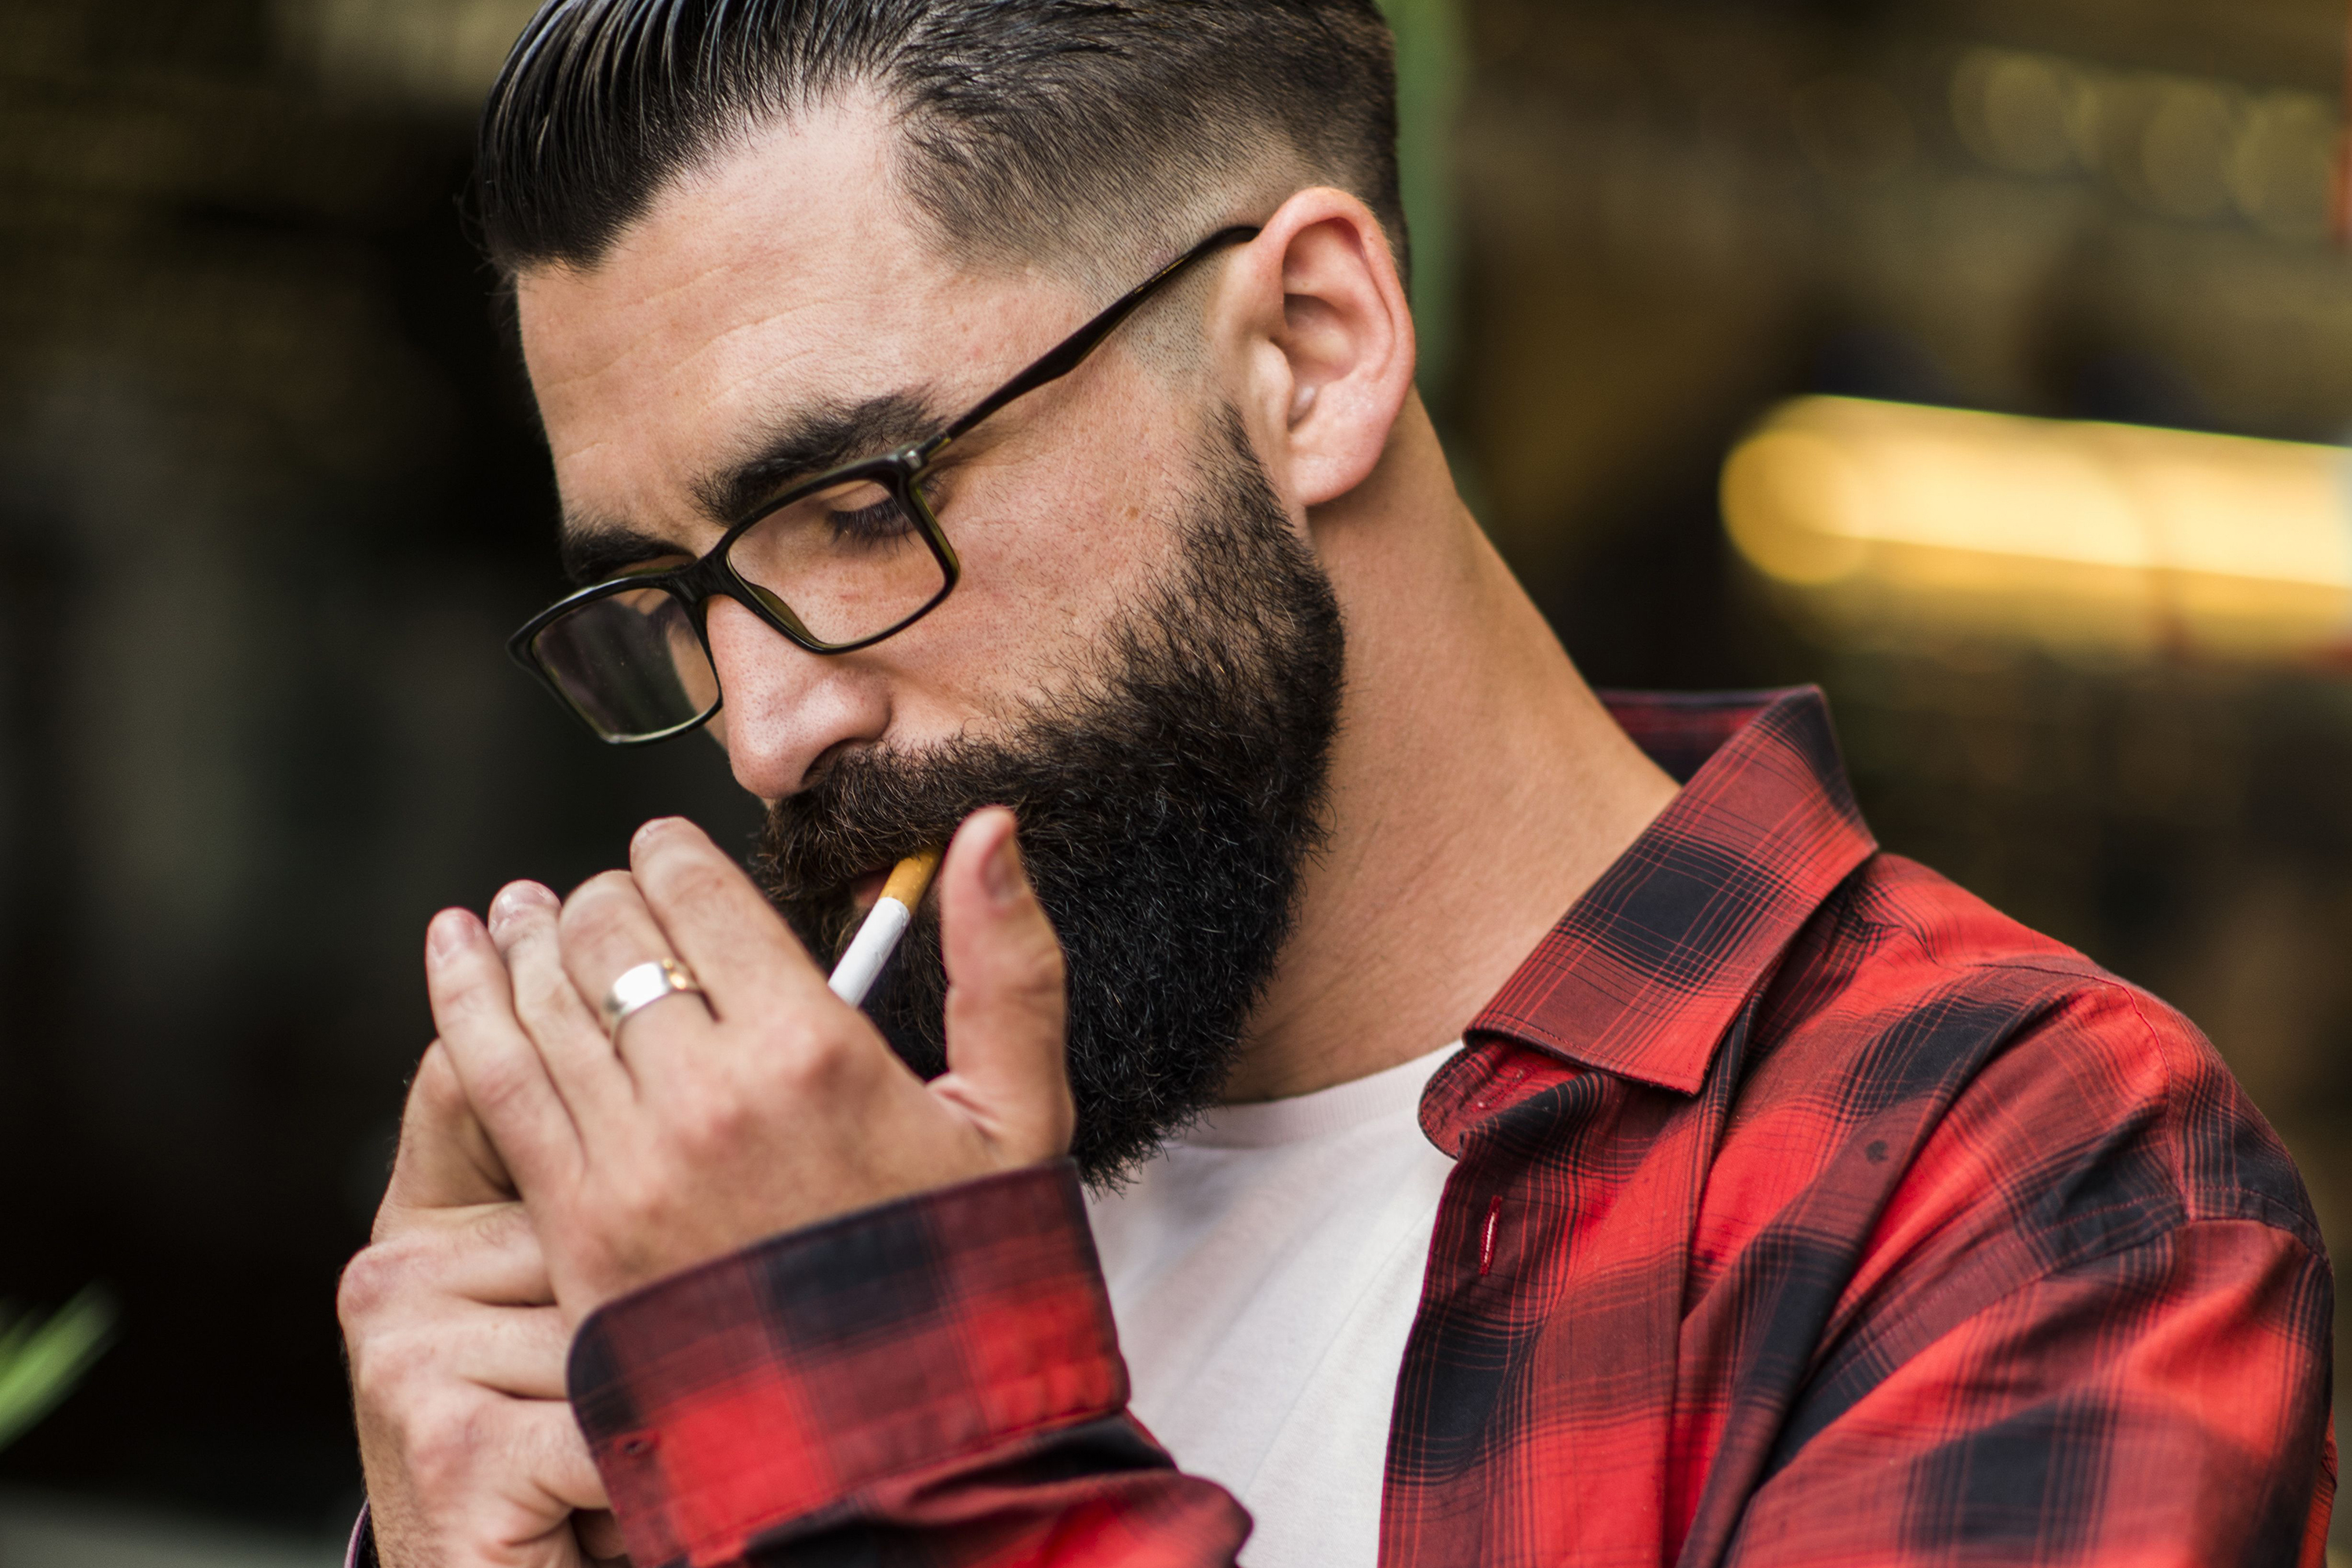cigarette: (833, 838, 957, 1062)
